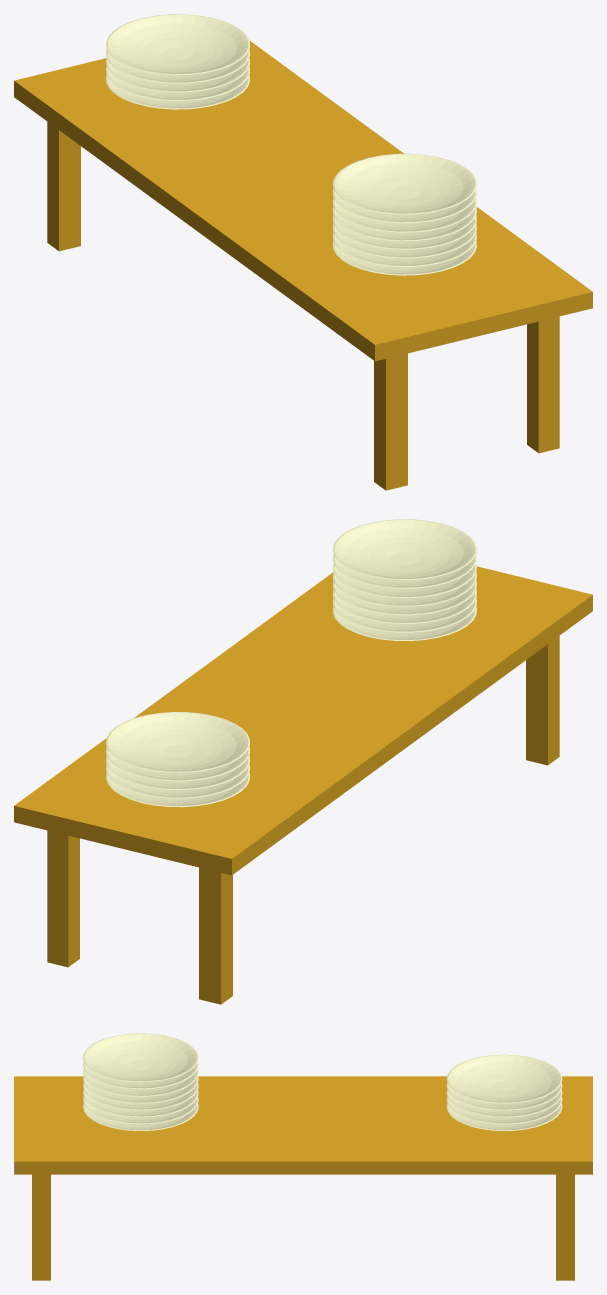
Rendered from mesaPlatos.obj.
3 views of the same model, one above another, from view 1: azimuth 30°, elevation 25°; view 2: azimuth 150°, elevation 25°; view 3: azimuth 270°, elevation 25° (orthographic). The views are drawn at different scales.
Parts seen in each view (by area): view 1: Cube, Sphere.007, Sphere.012, Sphere.005, Sphere.010, Sphere.002, Sphere.004, Sphere.006, Sphere.001, Sphere.009, Sphere, Sphere.008 (+2 smaller); view 2: Cube, Sphere.007, Sphere.012, Sphere.005, Sphere.002, Sphere.010, Sphere.003, Sphere.004, Sphere.006, Sphere.001, Sphere.009, Sphere.011 (+2 smaller); view 3: Cube, Sphere.012, Sphere.007, Sphere.005, Sphere.010, Sphere.002, Sphere.004, Sphere.009, Sphere.001, Sphere.006, Sphere.003, Sphere.011 (+2 smaller).
Boxes of the visible parts, box(x1,y1,x2,y2) form: Cube: box(14, 41, 592, 490); Sphere.007: box(332, 153, 476, 214); Sphere.012: box(106, 14, 250, 75); Sphere.005: box(332, 197, 476, 232); Sphere.010: box(106, 58, 250, 92); Sphere.002: box(332, 223, 476, 258); Sphere.004: box(333, 206, 476, 241); Sphere.006: box(333, 188, 476, 223); Sphere.001: box(333, 232, 476, 266); Sphere.009: box(106, 66, 250, 100); Sphere: box(332, 241, 476, 275); Sphere.008: box(106, 75, 249, 109); Cube: box(14, 566, 592, 1004); Sphere.007: box(332, 519, 476, 580); Sphere.012: box(106, 712, 250, 772); Sphere.005: box(332, 563, 476, 598); Sphere.002: box(332, 589, 476, 623); Sphere.010: box(106, 755, 249, 789); Sphere.003: box(332, 580, 476, 615); Sphere.004: box(333, 572, 476, 606); Sphere.006: box(333, 554, 476, 588); Sphere.001: box(333, 598, 476, 632); Sphere.009: box(106, 764, 250, 798); Sphere.011: box(106, 746, 249, 781); Cube: box(14, 1076, 592, 1280); Sphere.012: box(446, 1054, 562, 1103); Sphere.007: box(83, 1033, 198, 1082); Sphere.005: box(83, 1069, 198, 1096); Sphere.010: box(446, 1090, 562, 1117); Sphere.002: box(83, 1090, 198, 1117); Sphere.004: box(83, 1076, 198, 1103); Sphere.009: box(446, 1097, 562, 1124); Sphere.001: box(83, 1097, 198, 1124); Sphere.006: box(83, 1062, 198, 1089); Sphere.003: box(83, 1083, 198, 1110); Sphere.011: box(446, 1083, 562, 1110).
Size of the model in its own units: 1.99 by 2.06 by 5.72.
